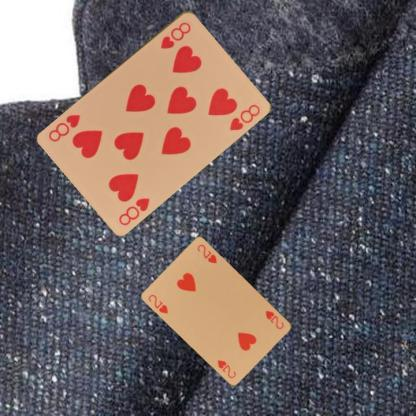2h: (146, 292, 169, 315), (263, 308, 285, 330)
8h: (116, 195, 152, 226), (158, 18, 192, 50)
